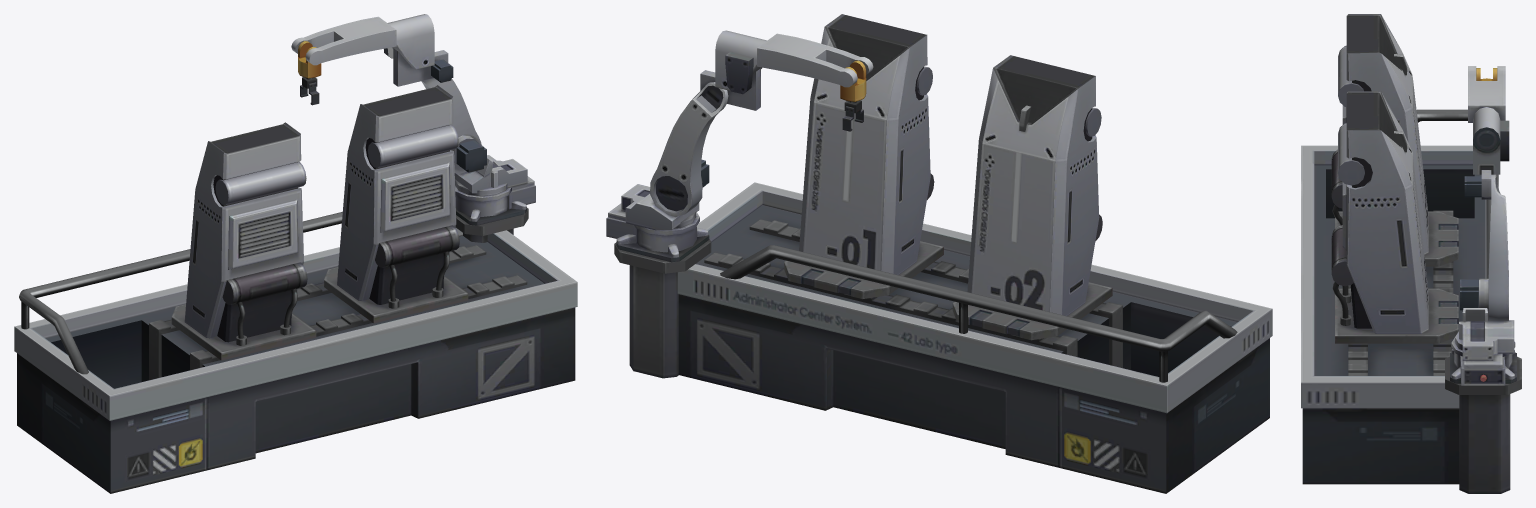
File: furn_sef2022_deco_01.gltf
The picture shows the model from 3 angles, left to right: view 1: azimuth 30°, elevation 25°; view 2: azimuth 150°, elevation 25°; view 3: azimuth 270°, elevation 25°; orthographic projection. The views are drawn at different scales.
Visible parts, largest first — view 1: sef2022_deco_01; view 2: sef2022_deco_01; view 3: sef2022_deco_01.
Part boxes in pixels (left/top/right/bottom): sef2022_deco_01: left=14, top=14, right=577, bottom=493; sef2022_deco_01: left=606, top=14, right=1272, bottom=493; sef2022_deco_01: left=1301, top=14, right=1521, bottom=493.
Size of the model in its own units: 2.02 by 1.21 by 0.7352.
1 material, 1 textured.
